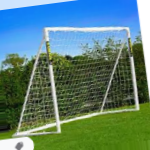goals: (13, 22, 137, 139)
